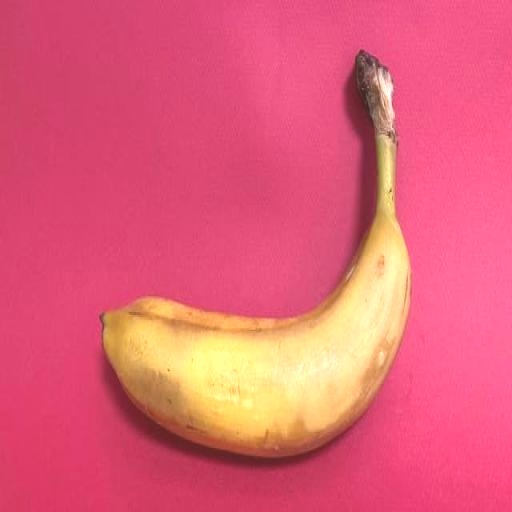fruit: (101, 52, 410, 456)
